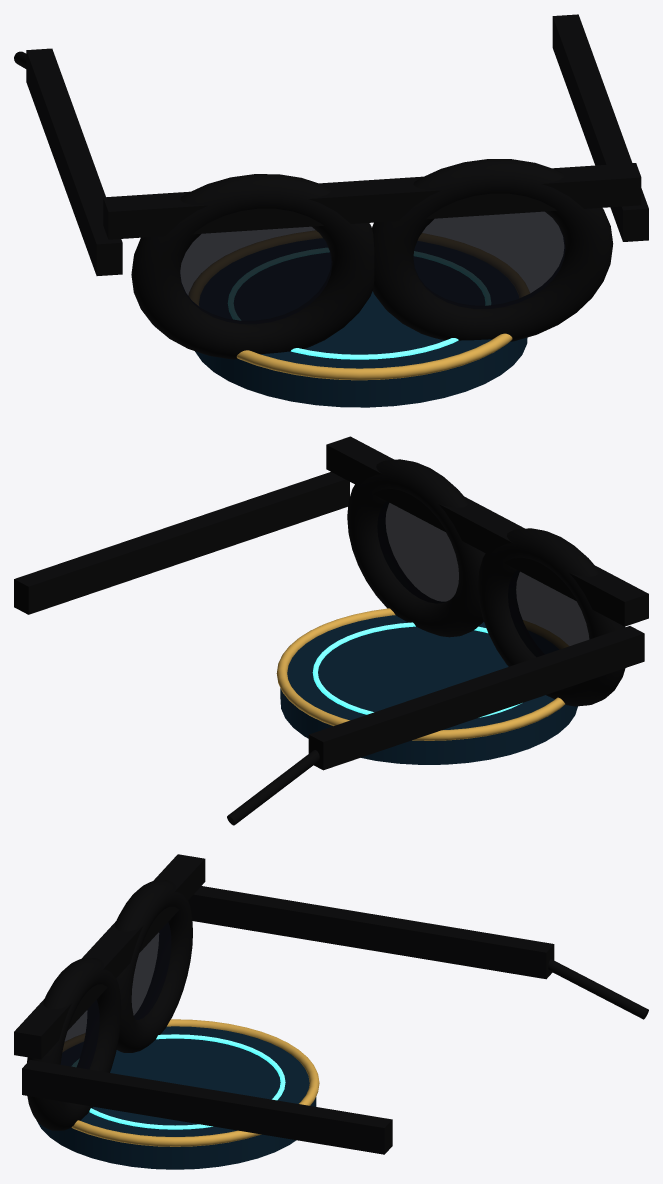
File: plugin-mvmrf2gg-7lx2.glb
3 renders of one model, top to bottom at view 1: azimuth 30°, elevation 25°; view 2: azimuth 150°, elevation 25°; view 3: azimuth 270°, elevation 25°, orthographic. The views are drawn at different scales.
Visible parts, largest first — view 1: part (×10); view 2: part (×11); view 3: part (×11).
Part boxes in pixels (x1=…): part (×10): x1=26, y1=14, x2=648, y2=407; part (×11): x1=14, y1=436, x2=648, y2=825; part (×11): x1=14, y1=854, x2=648, y2=1169.
Size of the model in its own units: 0.6956 by 0.2265 by 0.7657.
